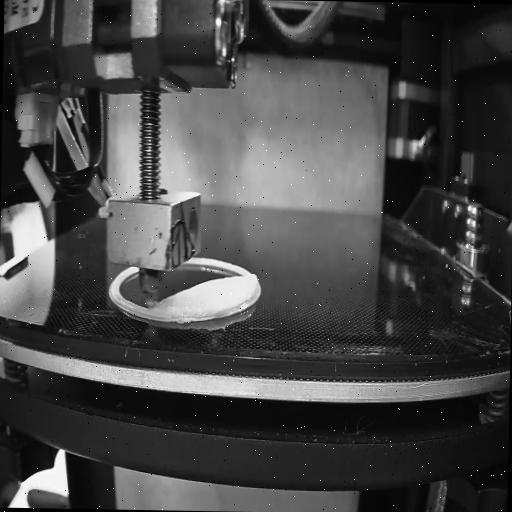over_extrusion: (246, 268, 262, 302)
